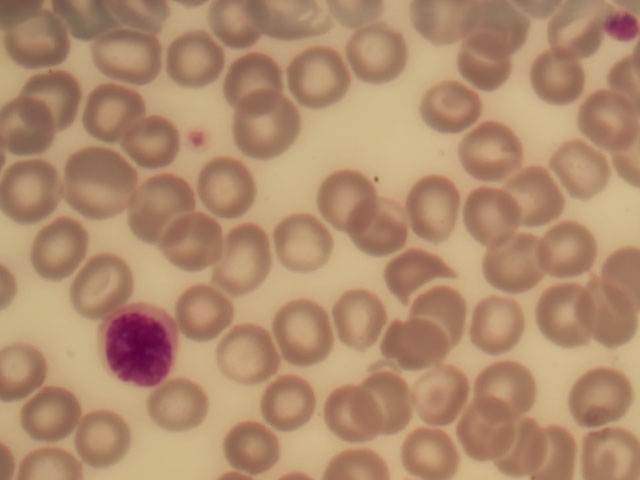Platelets: (608, 11, 637, 45), (188, 122, 209, 153)
RBC: (4, 8, 71, 71), (29, 70, 96, 133), (2, 161, 69, 224), (66, 157, 133, 220), (81, 77, 148, 140), (118, 109, 185, 172), (92, 23, 159, 86), (164, 30, 231, 93), (223, 49, 290, 112), (235, 102, 302, 165), (287, 45, 354, 108), (345, 23, 412, 86), (415, 73, 482, 136), (454, 40, 521, 103), (530, 52, 597, 115), (573, 84, 640, 147), (550, 135, 617, 198), (501, 161, 568, 224), (461, 178, 528, 241), (454, 104, 521, 167), (397, 175, 464, 238), (353, 204, 420, 267), (316, 170, 383, 233), (266, 212, 333, 275), (221, 227, 288, 290), (155, 214, 222, 277), (136, 180, 203, 243), (199, 155, 266, 218), (63, 246, 130, 309), (32, 214, 99, 277), (21, 382, 88, 445), (71, 407, 138, 470), (142, 376, 209, 439), (211, 330, 278, 393), (175, 285, 242, 348), (275, 301, 342, 364), (336, 293, 403, 356), (382, 243, 449, 306), (407, 282, 474, 345), (381, 314, 448, 377), (462, 298, 529, 361), (491, 231, 558, 294), (544, 217, 611, 280), (536, 291, 603, 354), (573, 280, 640, 343), (564, 359, 631, 422), (524, 417, 591, 480), (573, 417, 640, 480), (497, 417, 564, 480), (447, 398, 514, 461), (485, 368, 552, 431), (409, 368, 476, 431), (400, 417, 467, 480), (357, 367, 424, 430), (319, 382, 386, 445), (255, 368, 322, 431), (219, 415, 286, 478), (1, 94, 67, 157), (192, 1, 259, 63), (470, 1, 537, 63), (538, 1, 605, 63)
WBC: (95, 300, 180, 391)
